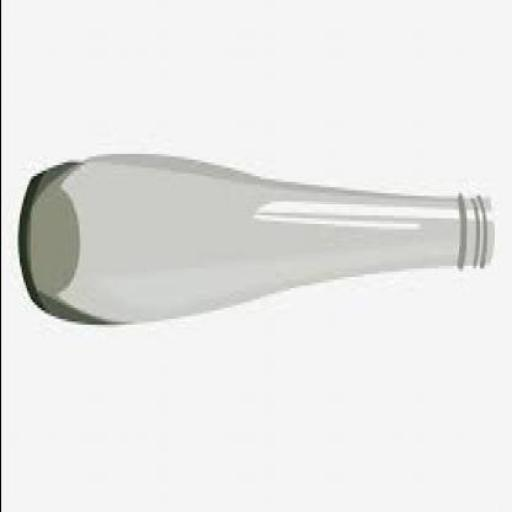glass: (18, 152, 494, 322)
